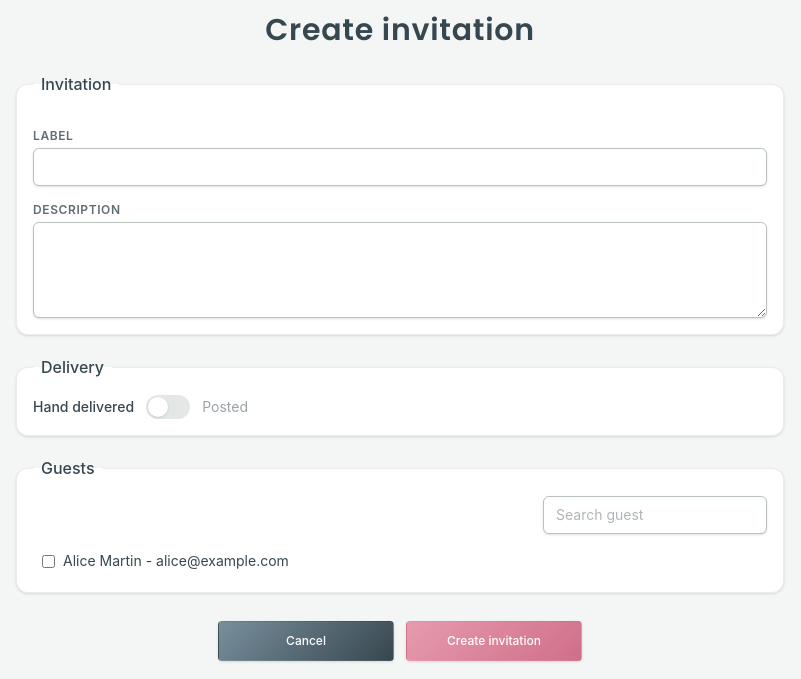
Test case: CreateInvitationView › shows no search match message when backend search has no result
The width and height of the screenshot is (801, 679).
Type "zzz-does-not-match" into the search field with test id "guest-search-input" at coordinates (655, 515), box [543,496,767,534]
Wait 301 ms
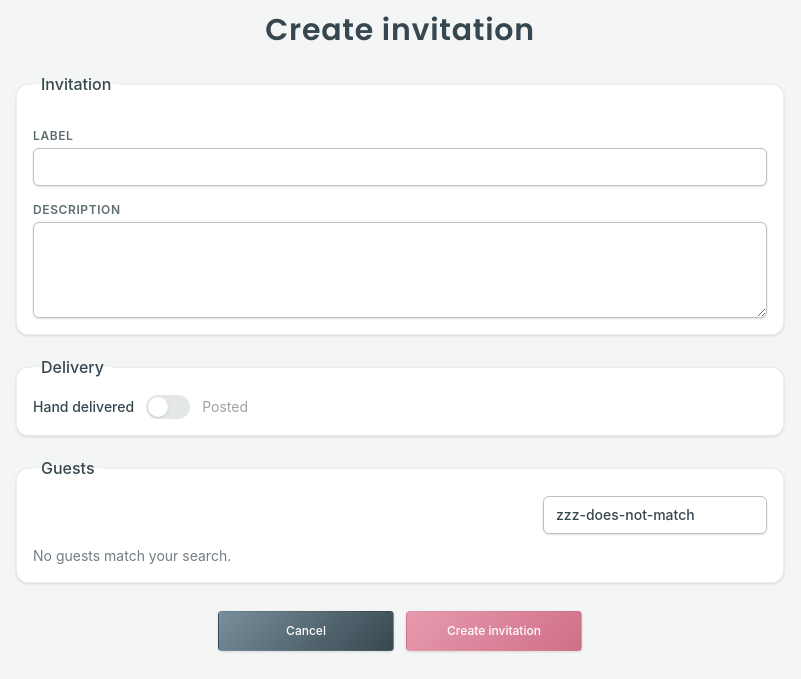
Now the text with test id "empty-no-search-match" reads "No guests match your search.", box [33,547,231,564]
